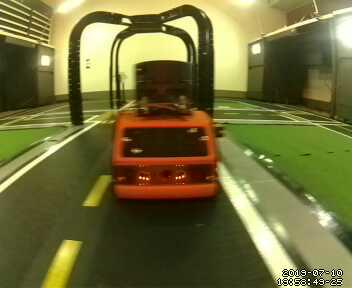pheeno: (109, 59, 226, 204)
